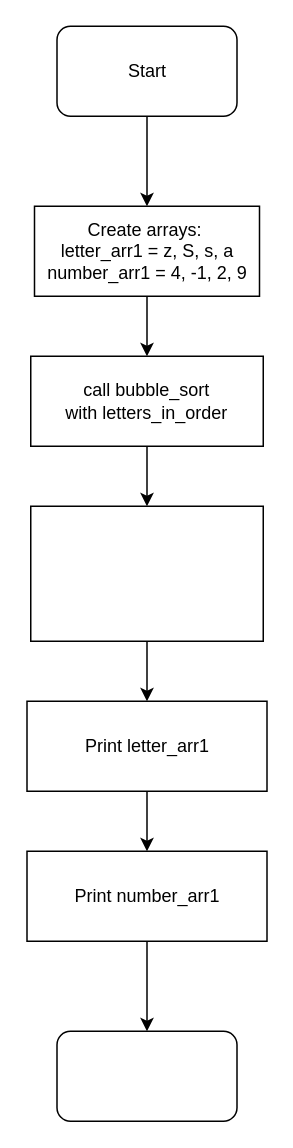
The diagram is 293 pixels wide and 1148 high, and some of its shapes have lost their labels. The centre of each missing label's shape, as x and y in pixels:
Call bubble_sort with numbers_in_ascending_ord er: point (146, 573)
End: point (146, 1075)
